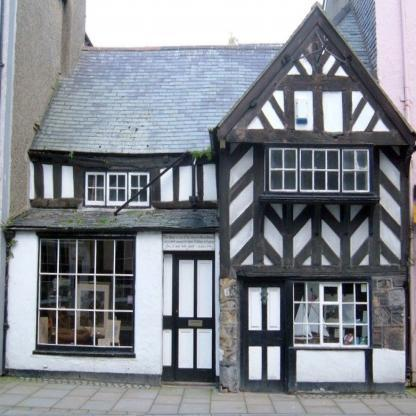Door: (175, 251, 216, 382), (239, 279, 286, 393), (162, 234, 215, 252)
Facade: (2, 1, 415, 394), (31, 147, 407, 391)
Floor Slab: (219, 262, 407, 270), (31, 210, 219, 217)
Ground Floor: (7, 217, 218, 380), (219, 270, 407, 394)
Roof: (28, 1, 415, 153), (5, 206, 220, 229)
Top Floor: (219, 139, 407, 262), (31, 151, 219, 210)
Window: (37, 238, 135, 349), (293, 281, 369, 348), (269, 148, 370, 192), (85, 173, 149, 206)
